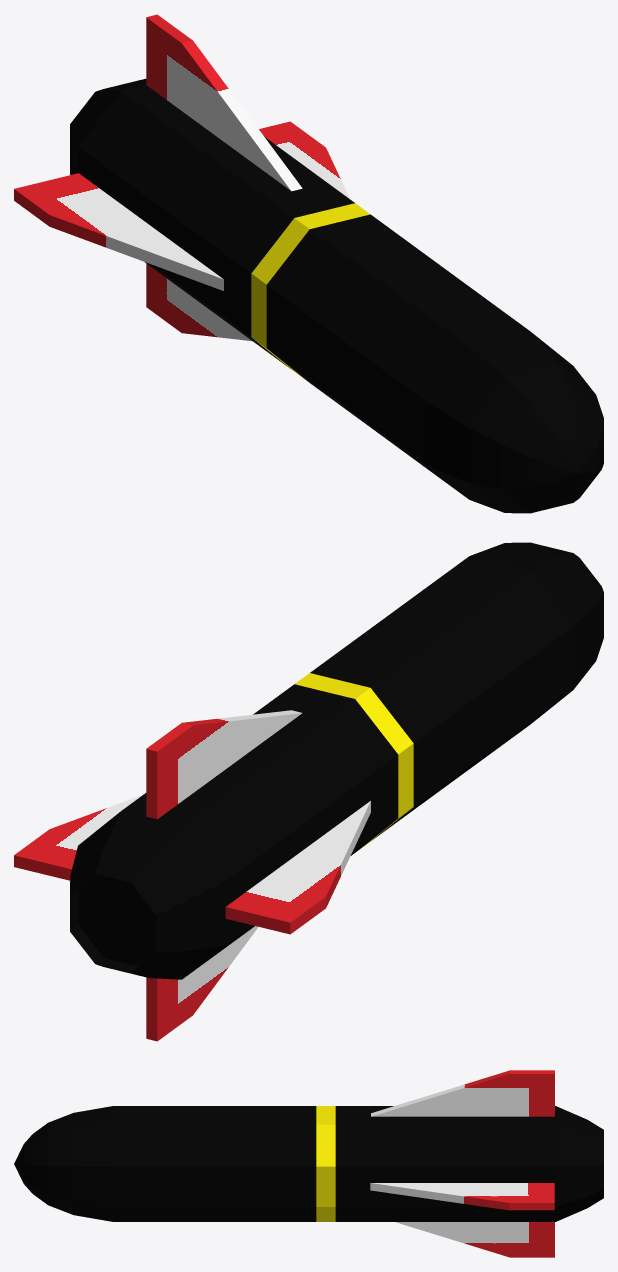
The model's file is missile.fbx.
The picture shows the model from 3 angles, top to bottom: view 1: azimuth 30°, elevation 25°; view 2: azimuth 150°, elevation 25°; view 3: azimuth 270°, elevation 25°; orthographic projection. The views are drawn at different scales.
Parts seen in each view (by area): view 1: Missile; view 2: Missile; view 3: Missile.
Boxes of the visible parts, x1,y1,x2,y2 form: Missile: [14, 14, 603, 513]; Missile: [14, 542, 603, 1041]; Missile: [14, 1070, 603, 1257].
Size of the model in its own units: 30.11 by 30.17 by 87.83.
1 material, 1 textured.
